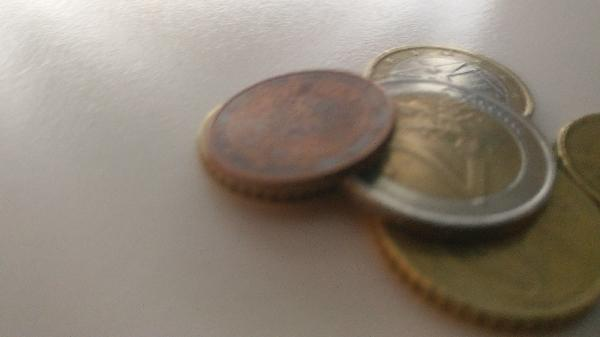Fifty Cent: (376, 170, 600, 331)
Five Cent: (205, 68, 399, 198)
One Euro: (366, 43, 532, 121)
Two Euro: (339, 78, 559, 242)
